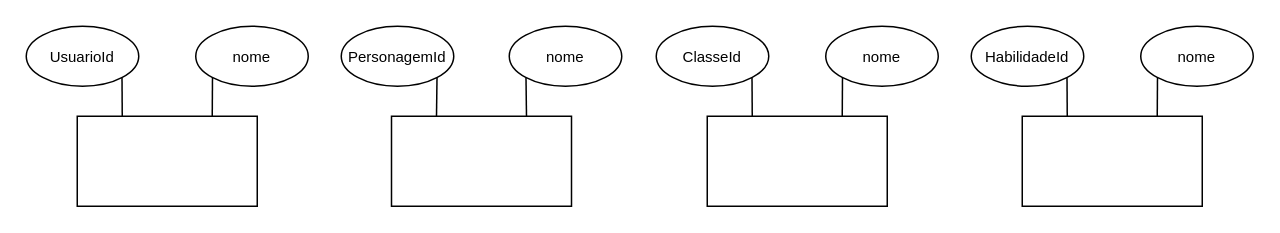
Some shapes in this 1280 by 233 pixel diagram are drawn without their labels. Here are the shapes that lost their labels. From the top down, the centre of each, then its label:
At (x=166, y=160): "Usuario".
At (x=481, y=160): "Personagem".
At (x=796, y=160): "Classe".
At (x=1111, y=160): "Habilidade".
